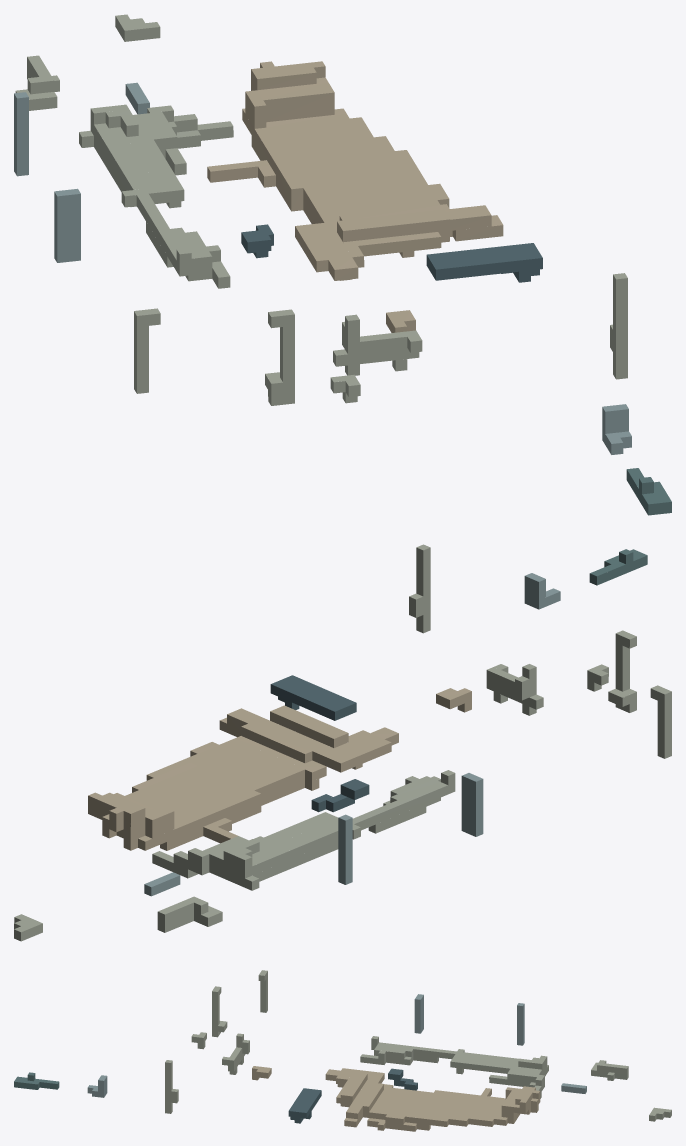
3 views of the same model, one above another, from view 1: azimuth 30°, elevation 25°; view 2: azimuth 150°, elevation 25°; view 3: azimuth 270°, elevation 25° (orthographic). The views are drawn at different scales.
Visible parts, largest first — view 1: measured-industrial; view 2: measured-industrial; view 3: measured-industrial.
Boxes of the visible parts, x1,y1,x2,y2 form: measured-industrial: [14, 14, 671, 515]; measured-industrial: [14, 544, 671, 941]; measured-industrial: [14, 970, 671, 1131].
Size of the model in its own units: 63.93 by 14.99 by 158.
